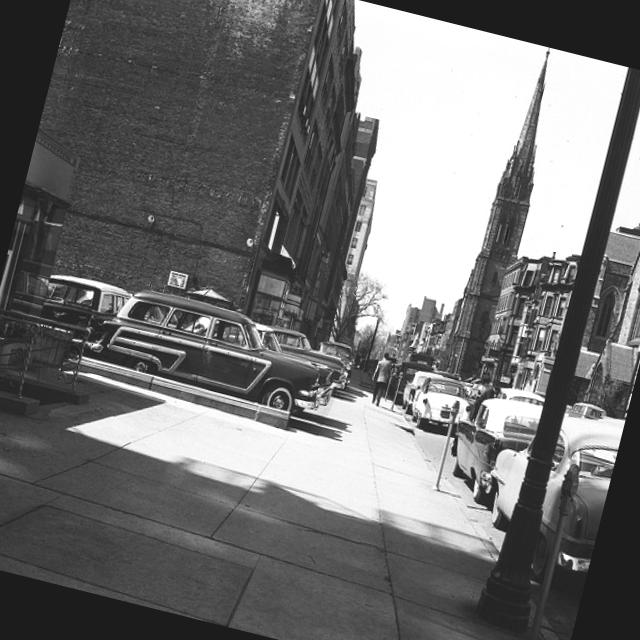Vehicle: (90, 276, 328, 422), (467, 386, 626, 586), (440, 387, 542, 513), (34, 270, 134, 352), (260, 326, 357, 390), (406, 367, 480, 437), (397, 364, 444, 420), (310, 338, 360, 384), (496, 386, 545, 408)
